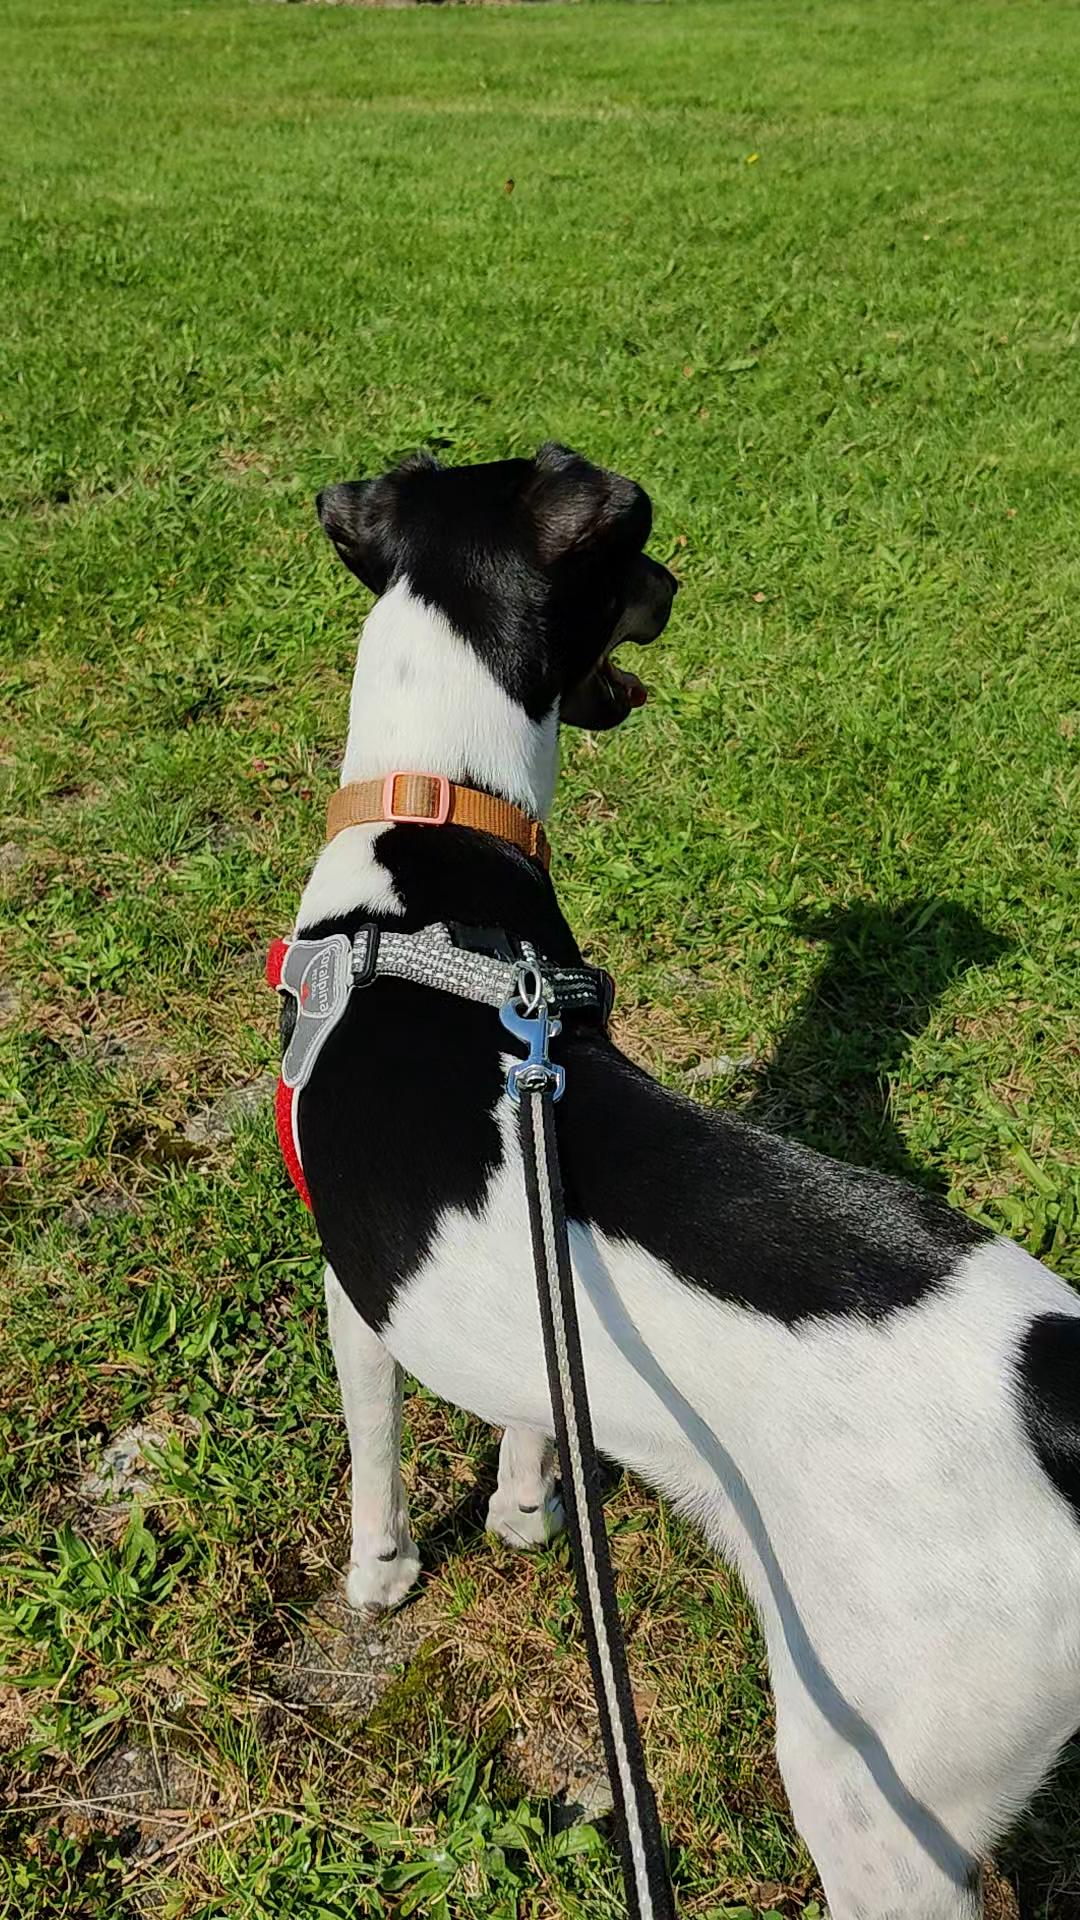Dog: (255, 442, 1079, 1919)
